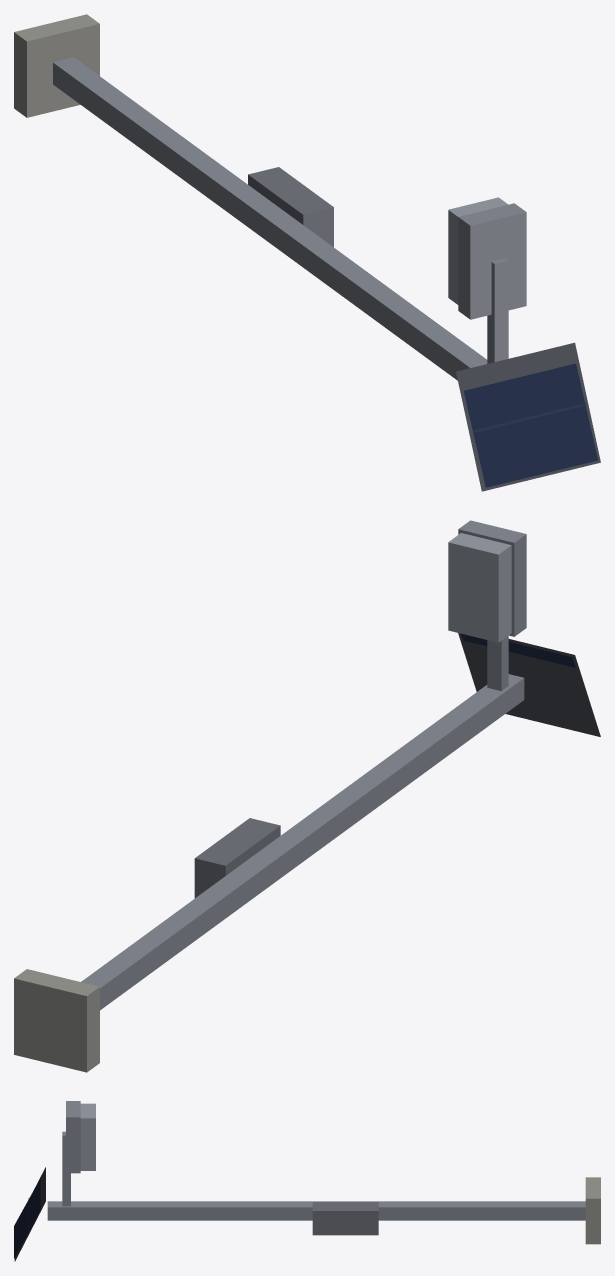
Rendered from lamp_ground_street_off_S.obj.
3 views of the same model, one above another, from view 1: azimuth 30°, elevation 25°; view 2: azimuth 150°, elevation 25°; view 3: azimuth 270°, elevation 25° (orthographic). The views are drawn at different scales.
Parts seen in each view (by area): view 1: lamp_ground_street_off_S; view 2: lamp_ground_street_off_S; view 3: lamp_ground_street_off_S.
Boxes of the visible parts, x1,y1,x2,y2 form: lamp_ground_street_off_S: (14,14,600,491); lamp_ground_street_off_S: (14,520,600,1072); lamp_ground_street_off_S: (14,1101,600,1261).
Bounding box in the file's own units: 0.424 × 0.7724 × 3.03.
Materials: 1 (1 with a texture image).
